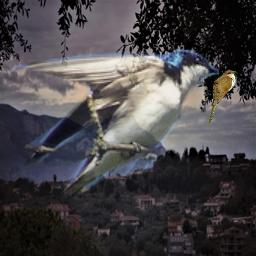Cuckoo: (208, 70, 237, 124)
Swallow: (9, 47, 219, 208)
